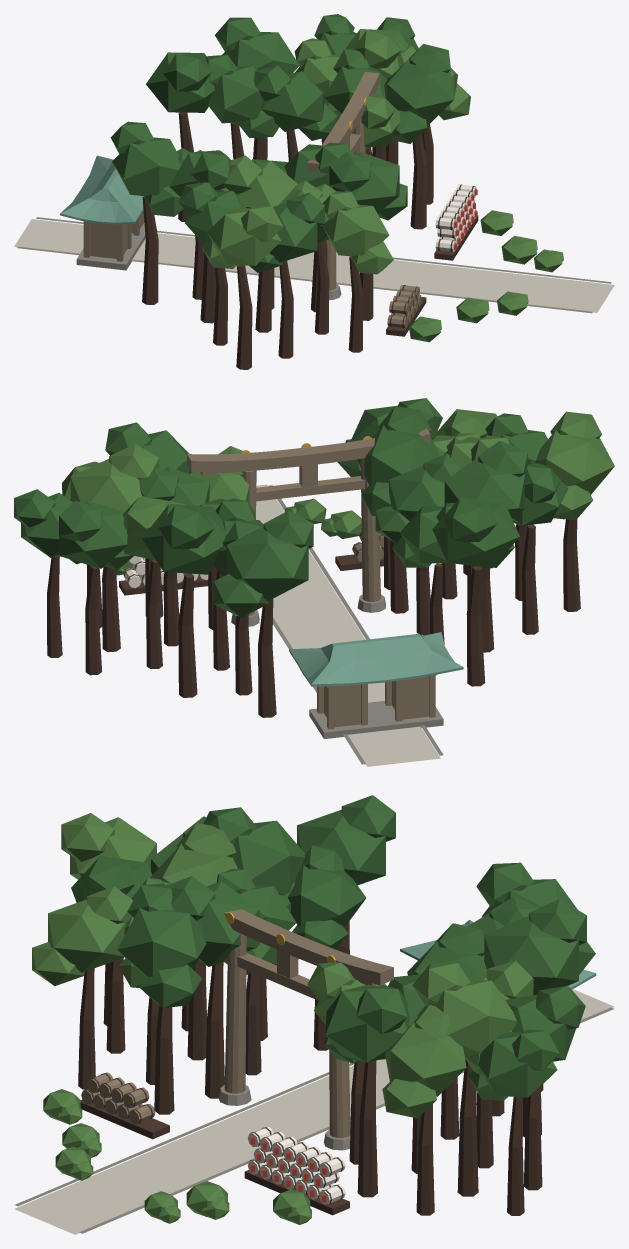
Rendered from meiji-jingu.glb.
3 views of the same model, one above another, from view 1: azimuth 30°, elevation 25°; view 2: azimuth 150°, elevation 25°; view 3: azimuth 270°, elevation 25° (orthographic). The views are drawn at different scales.
Visible parts, largest first — view 1: meiji_leaf, meiji_leaf2, meiji_bark, meiji_pave, meiji_wood, meiji_roof, meiji_stone, meiji_barrel; view 2: meiji_leaf, meiji_bark, meiji_leaf2, meiji_wood, meiji_pave, meiji_roof, meiji_stone, meiji_barrel; view 3: meiji_leaf, meiji_leaf2, meiji_bark, meiji_pave, meiji_wood, meiji_barrel, meiji_stone, meiji_label, meiji_roof.
Boxes of the visible parts, x1,y1,x2,y2 form: meiji_leaf: [110, 14, 453, 272]; meiji_leaf2: [201, 29, 563, 342]; meiji_bark: [142, 112, 478, 369]; meiji_pave: [14, 219, 614, 312]; meiji_wood: [83, 72, 421, 327]; meiji_roof: [60, 155, 143, 224]; meiji_stone: [17, 217, 611, 313]; meiji_barrel: [435, 184, 476, 251]; meiji_leaf: [14, 398, 568, 617]; meiji_bark: [47, 519, 580, 717]; meiji_leaf2: [62, 409, 614, 575]; meiji_wood: [187, 428, 436, 729]; meiji_pave: [256, 484, 440, 766]; meiji_roof: [289, 632, 463, 686]; meiji_stone: [231, 485, 443, 764]; meiji_barrel: [123, 556, 208, 587]; meiji_leaf: [71, 795, 595, 1100]; meiji_leaf2: [32, 813, 534, 1224]; meiji_bark: [78, 921, 543, 1215]; meiji_pave: [14, 989, 614, 1234]; meiji_wood: [81, 909, 393, 1137]; meiji_barrel: [247, 1126, 345, 1204]; meiji_stone: [15, 1007, 613, 1233]; meiji_label: [250, 1136, 326, 1201]; meiji_roof: [400, 920, 596, 989].
Bounding box in the file's own units: 22.2 × 9.12 × 22.2.
